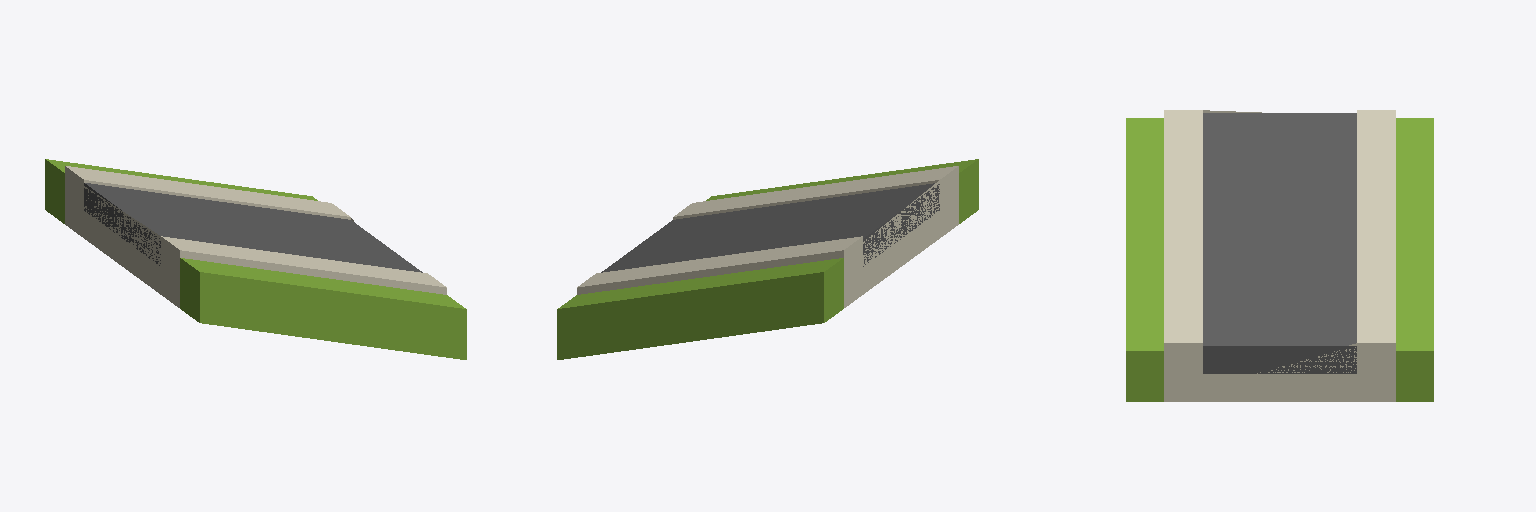
File: roadTile_161.obj
3 views of the same model, side by side, from view 1: azimuth 30°, elevation 25°; view 2: azimuth 150°, elevation 25°; view 3: azimuth 270°, elevation 25° (orthographic).
Parts seen in each view (by area): view 1: Mesh1 Group1 Model; view 2: Mesh1 Group1 Model; view 3: Mesh1 Group1 Model.
Part boxes in pixels (x1,y1,x2,y2): Mesh1 Group1 Model: (45,159,466,359); Mesh1 Group1 Model: (557,159,978,359); Mesh1 Group1 Model: (1126,110,1433,401).
Bounding box in the file's own units: 3 × 1.73 × 3.